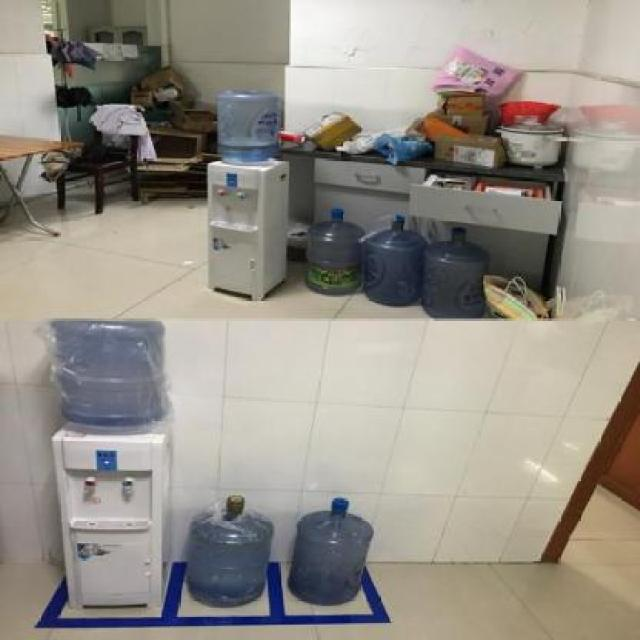coolerbottle: (52, 317, 172, 431), (180, 494, 284, 611), (281, 496, 384, 608), (422, 224, 498, 318), (298, 202, 367, 299), (364, 212, 432, 306), (214, 83, 284, 163)
